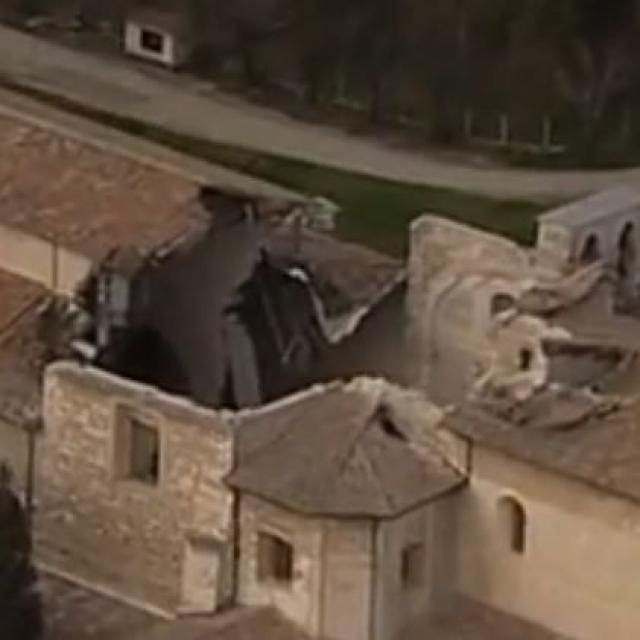collapsed_building: (90, 129, 564, 619)
